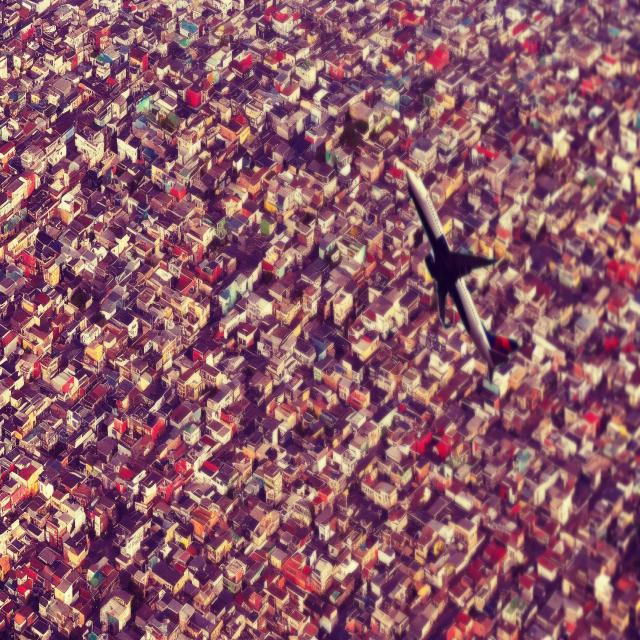airplane: (404, 167, 518, 384)
